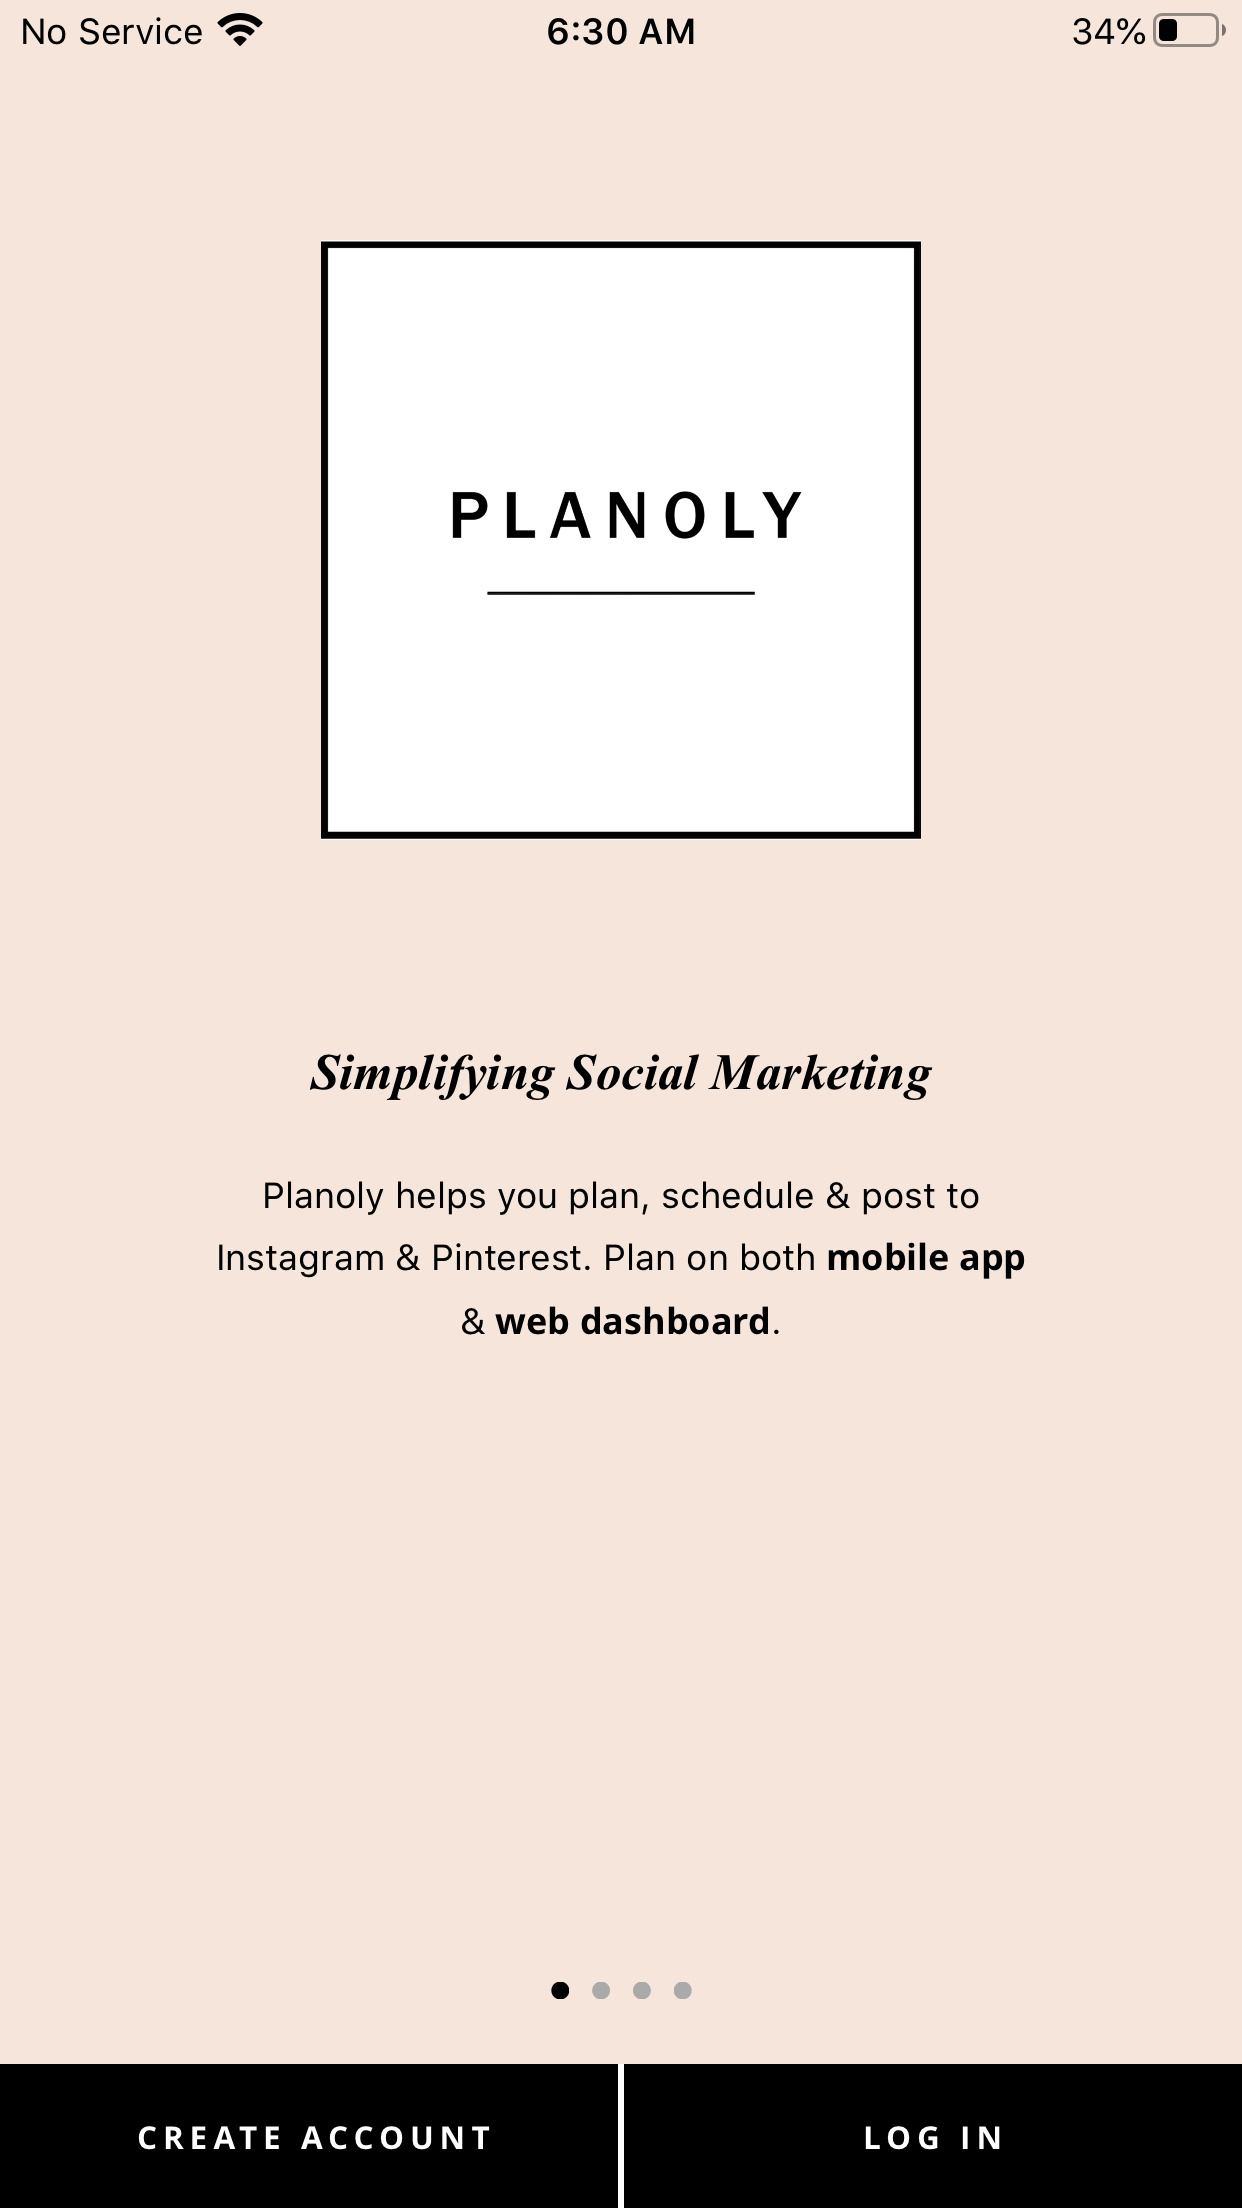Image: (321, 240, 921, 840)
PageIndicator: (550, 1981, 692, 1999)
Text: (218, 1181, 1024, 1335), (309, 1054, 933, 1099)
TextButton: (623, 2064, 1240, 2208), (2, 2064, 619, 2208)
UpperTaskBar: (2, 2, 1242, 49)
